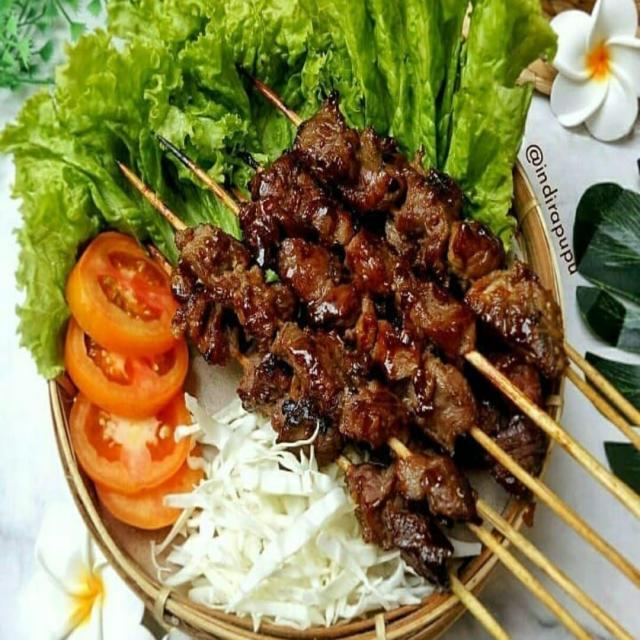Sate: (146, 90, 640, 640)
